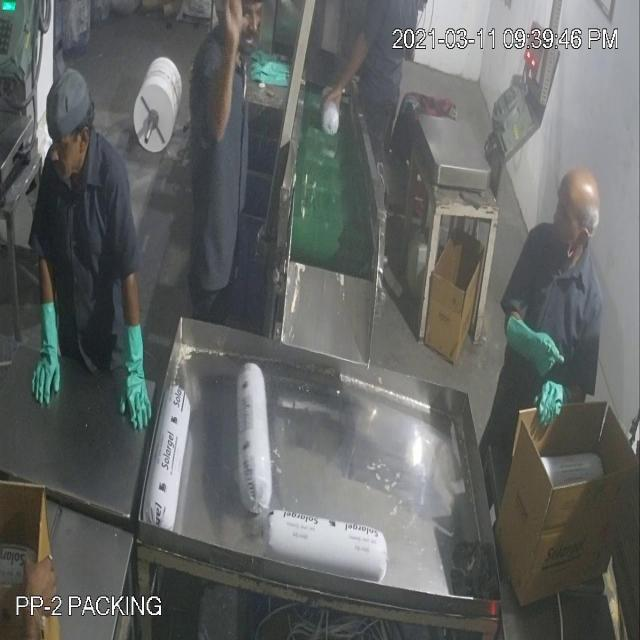No_Gloves: (32, 76, 532, 376)
